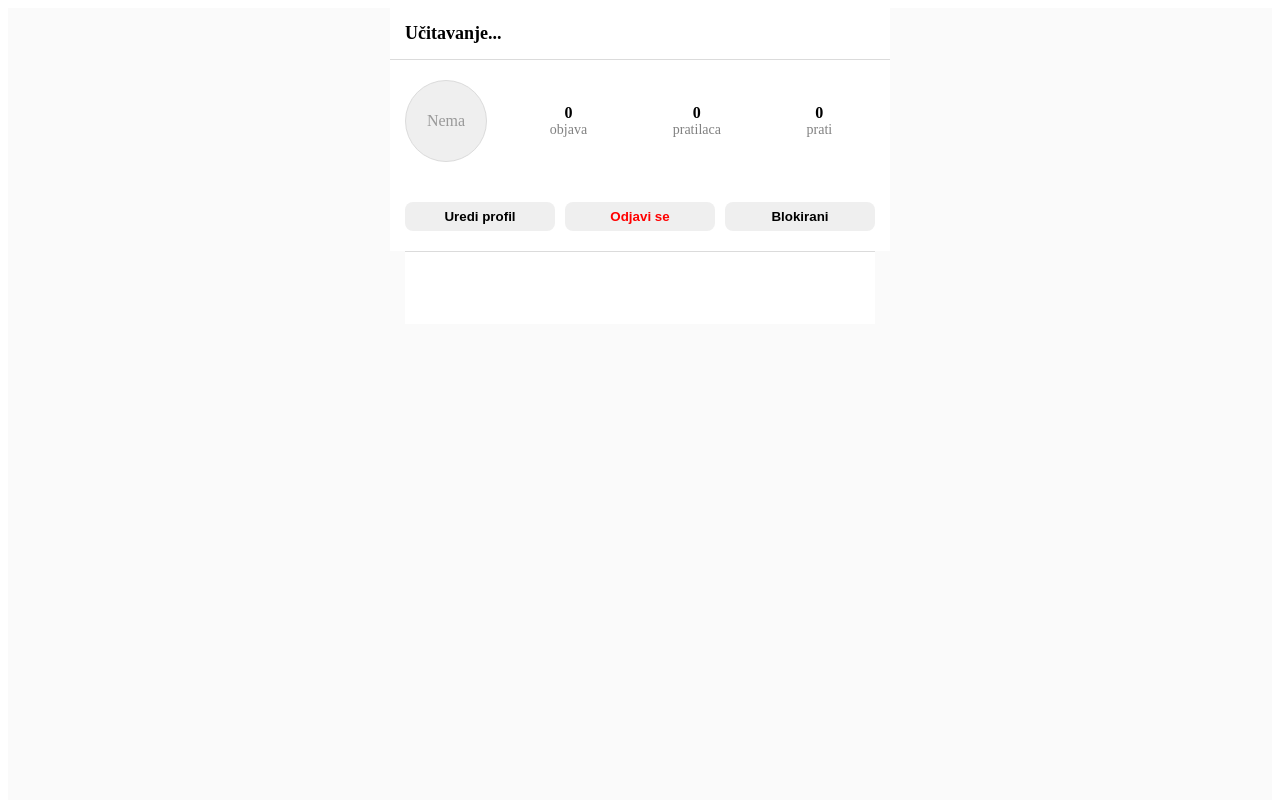
Scenario: Profile Komponenta › otvara modal kada se klikne na dugme "Uredi profil" da uredi podatke
This screenshot has width=1280, height=800.
# na svom smo profilu po defaultu, odmah trazimo dugme uredi
Click the button "Uredi profil" at (480, 216), box [405,202,555,231]
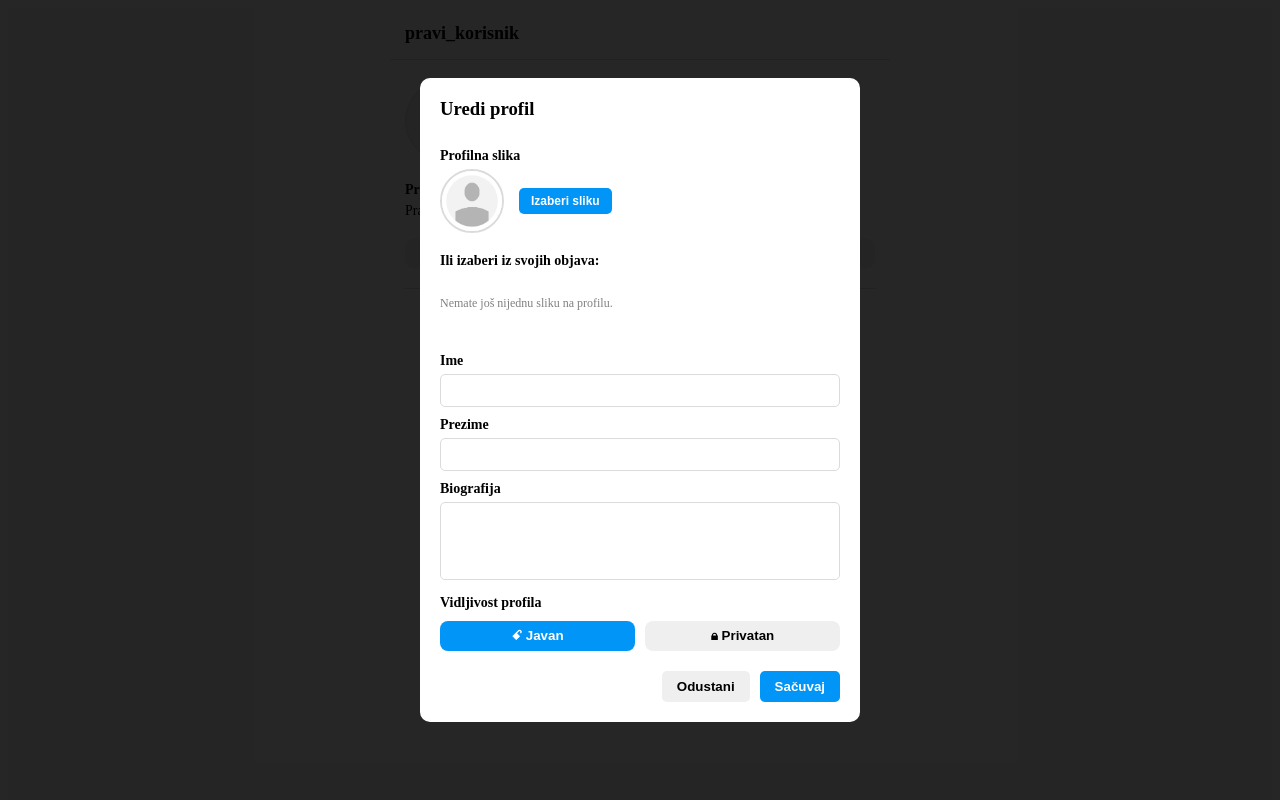
Expected: the text "Ime" is shown, [440,353,463,368]
Expected: the text "Prezime" is shown, [440,417,489,432]
Expected: the text "Biografija" is shown, [440,481,501,496]
